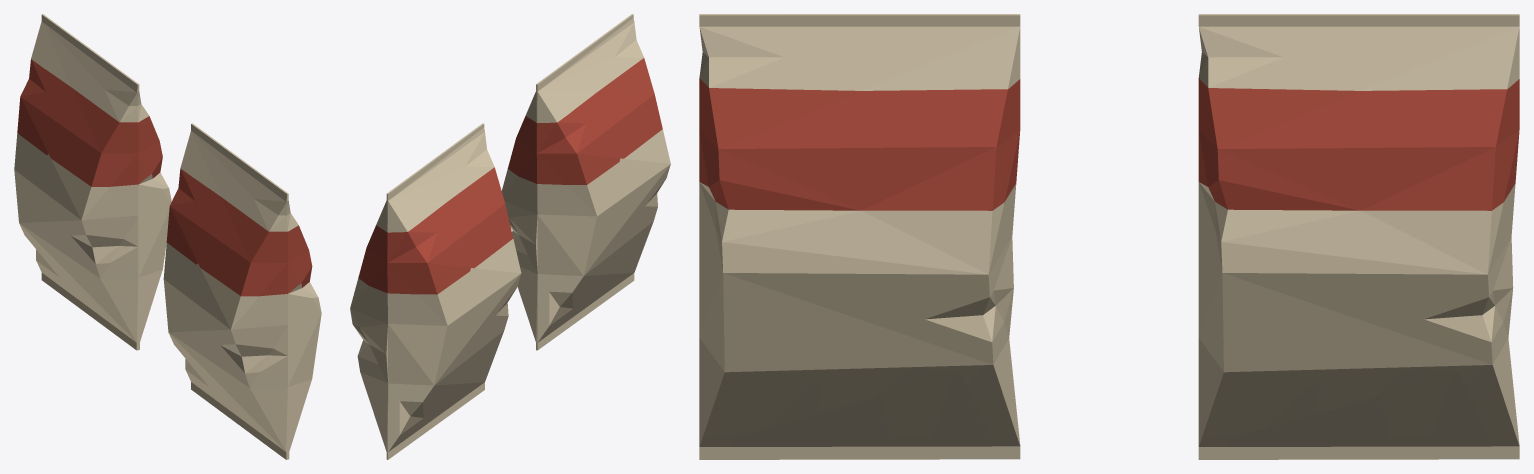
Rendered from chips.fbx.
3 views of the same model, side by side, from view 1: azimuth 30°, elevation 25°; view 2: azimuth 150°, elevation 25°; view 3: azimuth 270°, elevation 25° (orthographic). The views are drawn at different scales.
Parts seen in each view (by area): view 1: group478861069.001, group478861069; view 2: group478861069, group478861069.001; view 3: group478861069, group478861069.001.
Boxes of the visible parts, x1,y1,x2,y2 form: group478861069.001: (163,123,321,459); group478861069: (14,14,171,350); group478861069: (350,123,521,459); group478861069.001: (501,14,670,350); group478861069: (1198,14,1519,459); group478861069.001: (699,14,1020,459).
Size of the model in its own units: 146 by 393 by 657.
